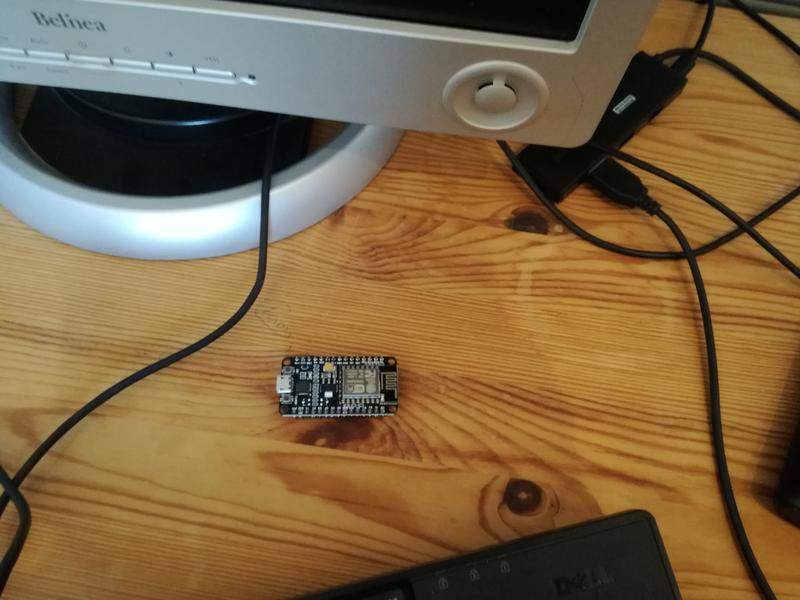ESP8266: (271, 351, 405, 419)
